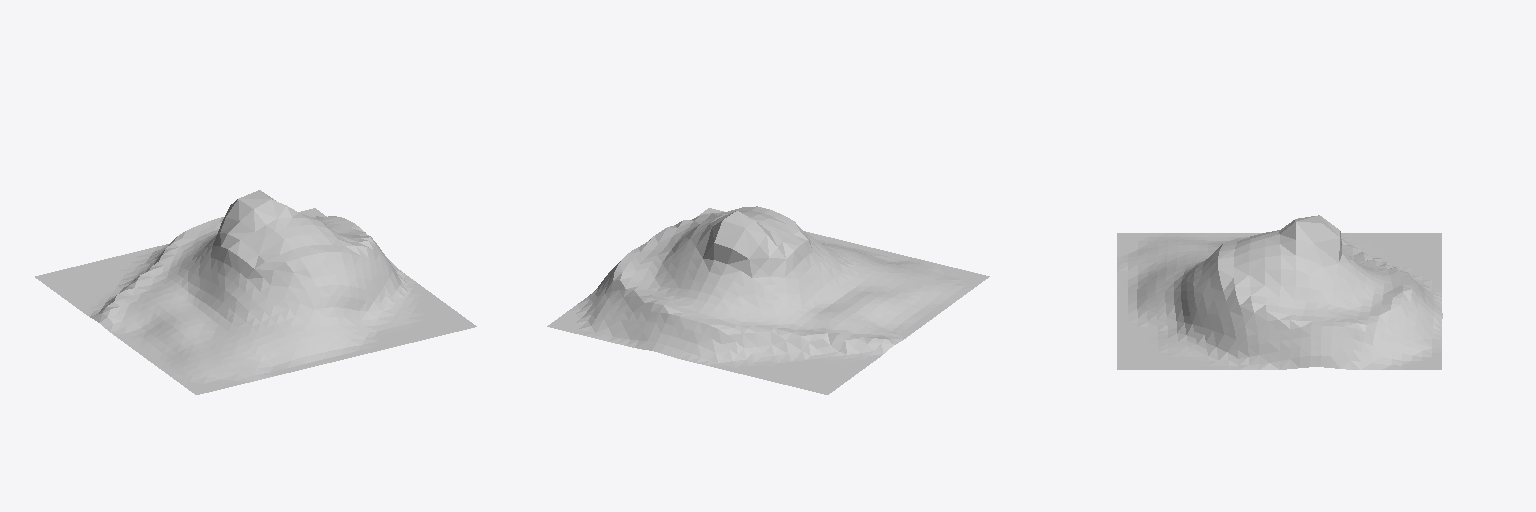
The model's file is TestTerrain.obj.
3 renders of one model, left to right at view 1: azimuth 30°, elevation 25°; view 2: azimuth 150°, elevation 25°; view 3: azimuth 270°, elevation 25°, orthographic.
Parts seen in each view (by area): view 1: Plane_Plane.001; view 2: Plane_Plane.001; view 3: Plane_Plane.001.
Boxes of the visible parts, <box> form: Plane_Plane.001: <box>35,190,476,394</box>; Plane_Plane.001: <box>547,206,989,394</box>; Plane_Plane.001: <box>1117,215,1442,369</box>.
Bounding box in the file's own units: 59.86 × 18.44 × 59.6.